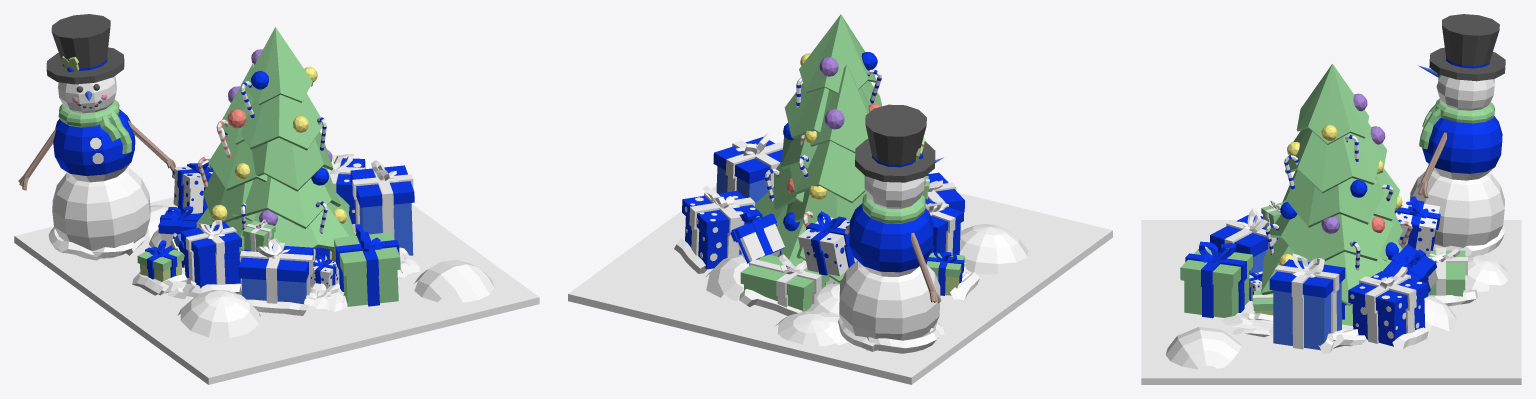
The model's file is cenario_TodoAzul_semFlocos.gltf.
3 renders of one model, left to right at view 1: azimuth 30°, elevation 25°; view 2: azimuth 150°, elevation 25°; view 3: azimuth 270°, elevation 25°, orthographic. The views are drawn at different scales.
Parts seen in each view (by area): view 1: group984652469, group2093051608, group385402332, group1715402553, group1398461394, group195235000, group226490541, group1182067444, group1571551701, group1825349058, group470038334, group1185238801 (+13 smaller); view 2: group984652469, group2093051608, group1225141938, group535900711, group1715402553, group470038334, group615263083, group784588934, group1571551701, group1540402439, group109114973, group1182067444 (+13 smaller); view 3: group984652469, group2093051608, group1715402553, group1225141938, group385402332, group1182067444, group226490541, group1825349058, group470038334, group484289719, group1185238801, group1398461394 (+14 smaller).
Part boxes in pixels (x1,y1,x2,y2): group984652469: (14, 156, 539, 384); group2093051608: (18, 14, 175, 258); group385402332: (334, 224, 400, 306); group1715402553: (350, 160, 414, 255); group1398461394: (238, 238, 313, 304); group195235000: (180, 220, 241, 288); group226490541: (232, 166, 340, 228); group1182067444: (241, 94, 322, 150); group1571551701: (177, 290, 260, 338); group1825349058: (251, 131, 333, 191); group470038334: (245, 27, 312, 105); group1185238801: (226, 193, 355, 250); group984652469: (568, 185, 1112, 384); group2093051608: (839, 104, 943, 351); group1225141938: (682, 185, 762, 269); group535900711: (740, 254, 829, 311); group1715402553: (713, 132, 783, 203); group470038334: (799, 14, 876, 93); group615263083: (789, 141, 865, 202); group784588934: (798, 211, 857, 276); group1571551701: (959, 224, 1027, 274); group1540402439: (810, 64, 869, 153); group109114973: (775, 311, 848, 346); group1182067444: (784, 81, 882, 138); group984652469: (1141, 220, 1521, 384); group2093051608: (1409, 14, 1505, 247); group1715402553: (1269, 253, 1345, 350); group1225141938: (1348, 266, 1428, 346); group385402332: (1180, 241, 1252, 318); group1182067444: (1285, 128, 1381, 193); group226490541: (1269, 213, 1392, 262); group1825349058: (1282, 170, 1384, 227); group470038334: (1296, 64, 1369, 144); group484289719: (1166, 327, 1241, 369); group1185238801: (1261, 238, 1399, 305); group1398461394: (1210, 208, 1278, 273).
Size of the model in its own units: 2.01 by 1.59 by 1.98.
